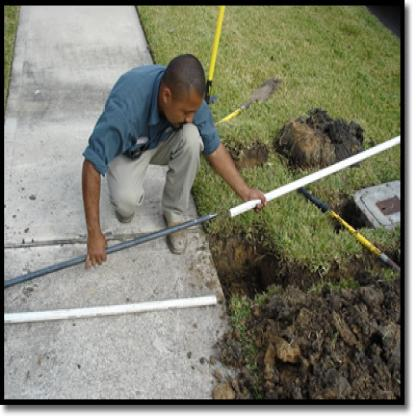PVC: (5, 213, 216, 288), (228, 134, 401, 219), (4, 294, 217, 323)
